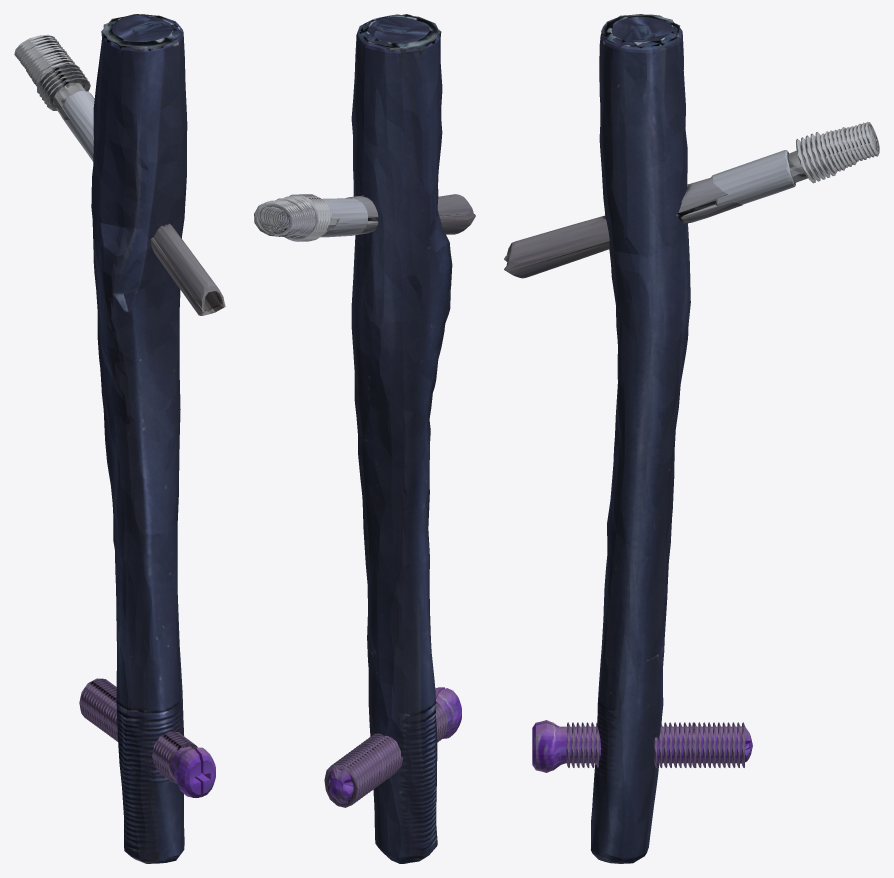
The picture shows the model from 3 angles, left to right: view 1: azimuth 30°, elevation 25°; view 2: azimuth 150°, elevation 25°; view 3: azimuth 270°, elevation 25°; orthographic projection.
Visible parts, largest first — view 1: tripo_part_5, tripo_part_1 (×2), tripo_part_0, tripo_part_9, tripo_part_3, tripo_part_15; view 2: tripo_part_5, tripo_part_9, tripo_part_1 (×2), tripo_part_10 (×2), tripo_part_3, tripo_part_0, tripo_part_2, tripo_part_8; view 3: tripo_part_5, tripo_part_1 (×3), tripo_part_9, tripo_part_8, tripo_part_0, tripo_part_3, tripo_part_15.
Part boxes in pixels (left/top/right/bottom): tripo_part_5: left=91, top=14, right=187, bottom=863; tripo_part_1 (×2): left=150, top=223, right=225, bottom=315; tripo_part_0: left=174, top=747, right=215, bottom=797; tripo_part_9: left=61, top=91, right=94, bottom=161; tripo_part_3: left=101, top=14, right=180, bottom=52; tripo_part_15: left=48, top=69, right=85, bottom=119; tripo_part_5: left=351, top=16, right=452, bottom=863; tripo_part_9: left=320, top=198, right=368, bottom=237; tripo_part_1 (×2): left=437, top=194, right=475, bottom=234; tripo_part_10 (×2): left=254, top=201, right=359, bottom=807; tripo_part_3: left=359, top=14, right=441, bottom=54; tripo_part_0: left=435, top=687, right=461, bottom=738; tripo_part_2: left=328, top=767, right=353, bottom=801; tripo_part_8: left=345, top=195, right=378, bottom=234; tripo_part_5: left=590, top=16, right=690, bottom=863; tripo_part_1 (×3): left=504, top=215, right=741, bottom=763; tripo_part_9: left=711, top=150, right=795, bottom=205; tripo_part_8: left=676, top=177, right=742, bottom=223; tripo_part_0: left=532, top=720, right=567, bottom=772; tripo_part_3: left=601, top=14, right=679, bottom=47; tripo_part_15: left=788, top=141, right=857, bottom=182.
Size of the model in its own units: 0.098 by 0.9385 by 0.3863.
74 materials, 74 textured.
